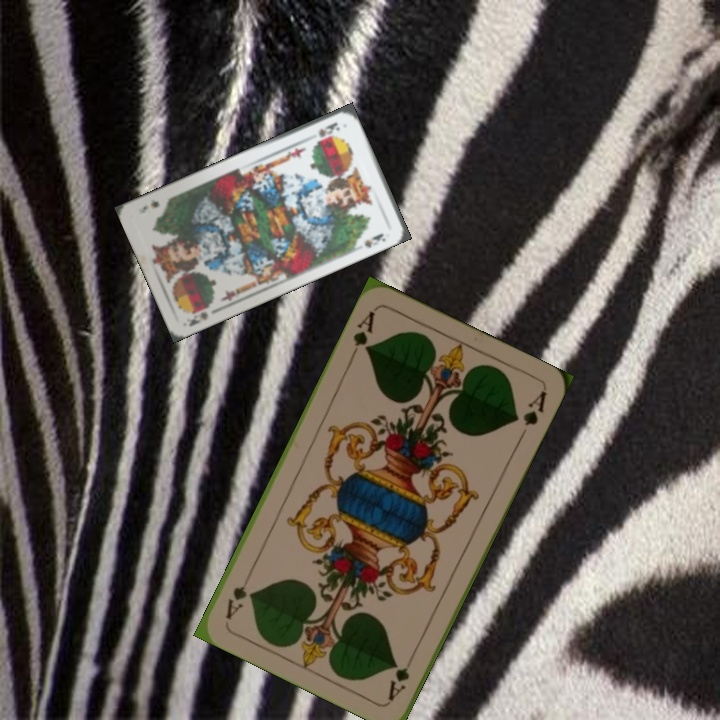GA: (346, 306, 378, 361), (383, 661, 412, 704)
SK: (315, 118, 342, 140), (184, 307, 210, 329)
